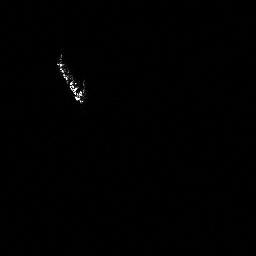ship: (53, 49, 90, 106)
